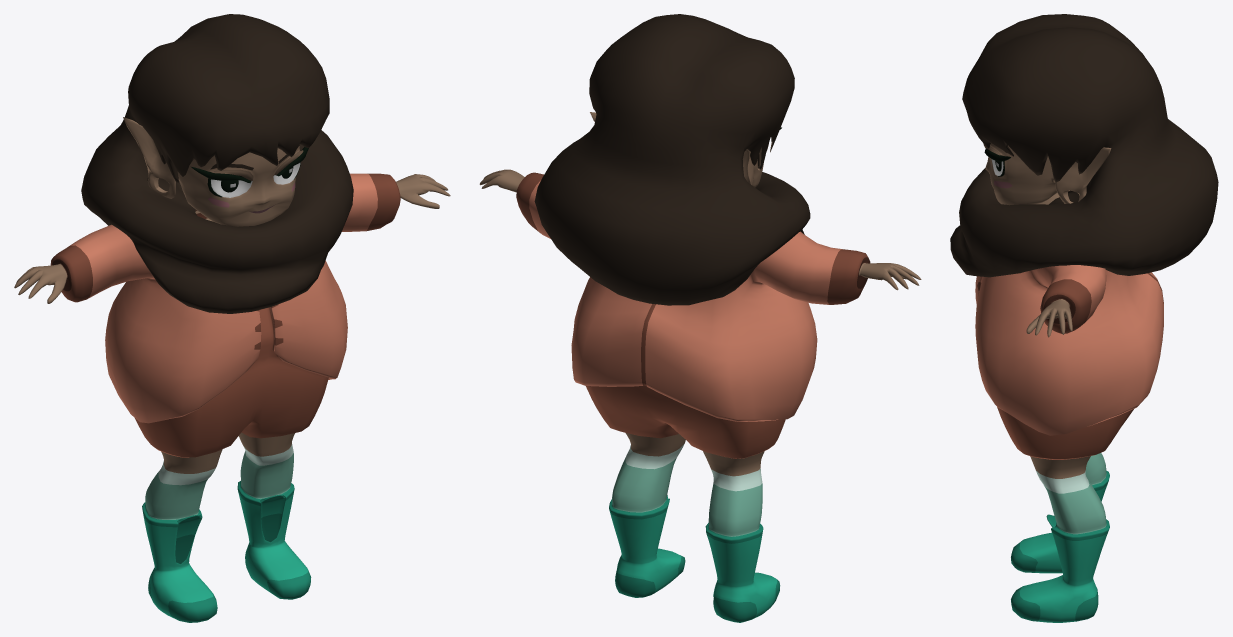
File: HumanCharacterModel_painted.fbx
3 renders of one model, left to right at view 1: azimuth 30°, elevation 25°; view 2: azimuth 150°, elevation 25°; view 3: azimuth 270°, elevation 25°, orthographic.
Parts seen in each view (by area): view 1: pCube13; view 2: pCube13; view 3: pCube13.
Part boxes in pixels (x1,y1,x2,y2): pCube13: [14, 14, 450, 622]; pCube13: [479, 14, 921, 622]; pCube13: [950, 14, 1218, 622].
Bounding box in the file's own units: 1.13 × 1.42 × 0.607.
